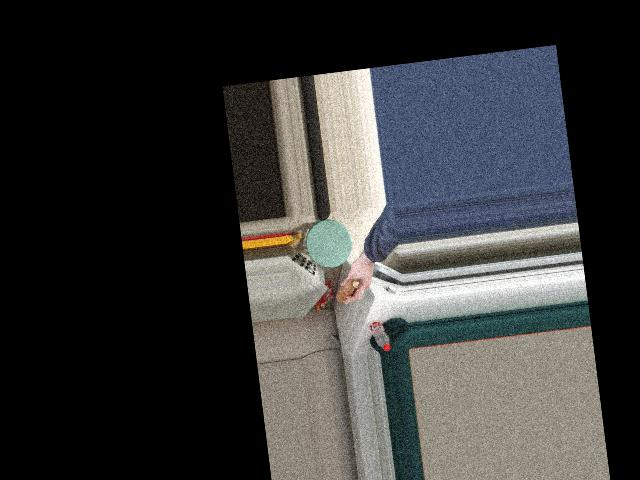sweet_potato: (335, 274, 364, 305)
